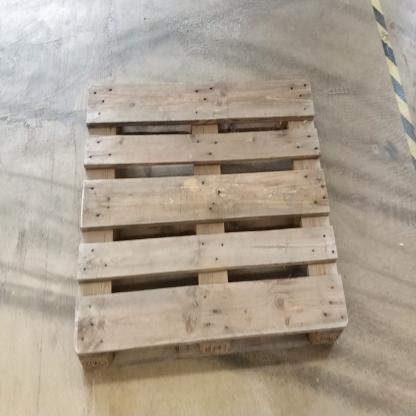BoxFace: (68, 71, 352, 379)
